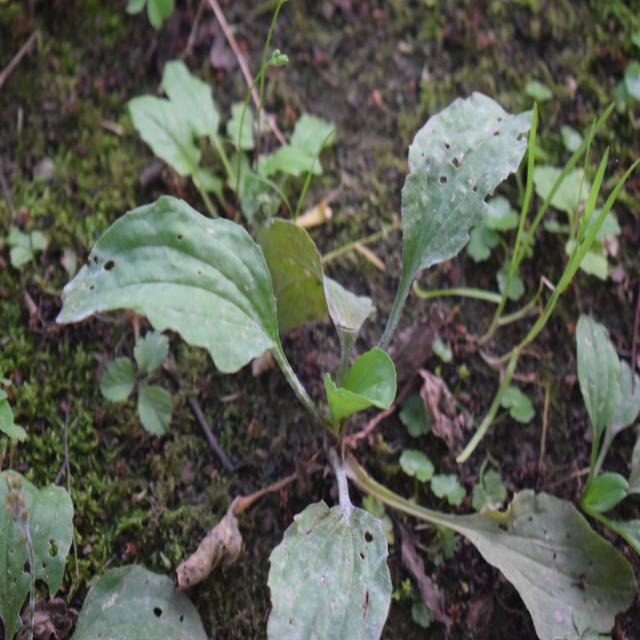plantain: (79, 58, 515, 522)
